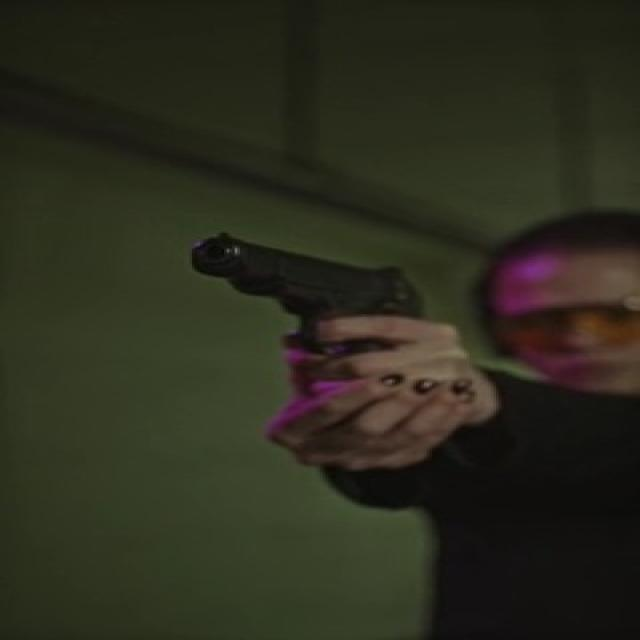Gun_Holder: (105, 215, 550, 474)
Person: (373, 185, 640, 640)
